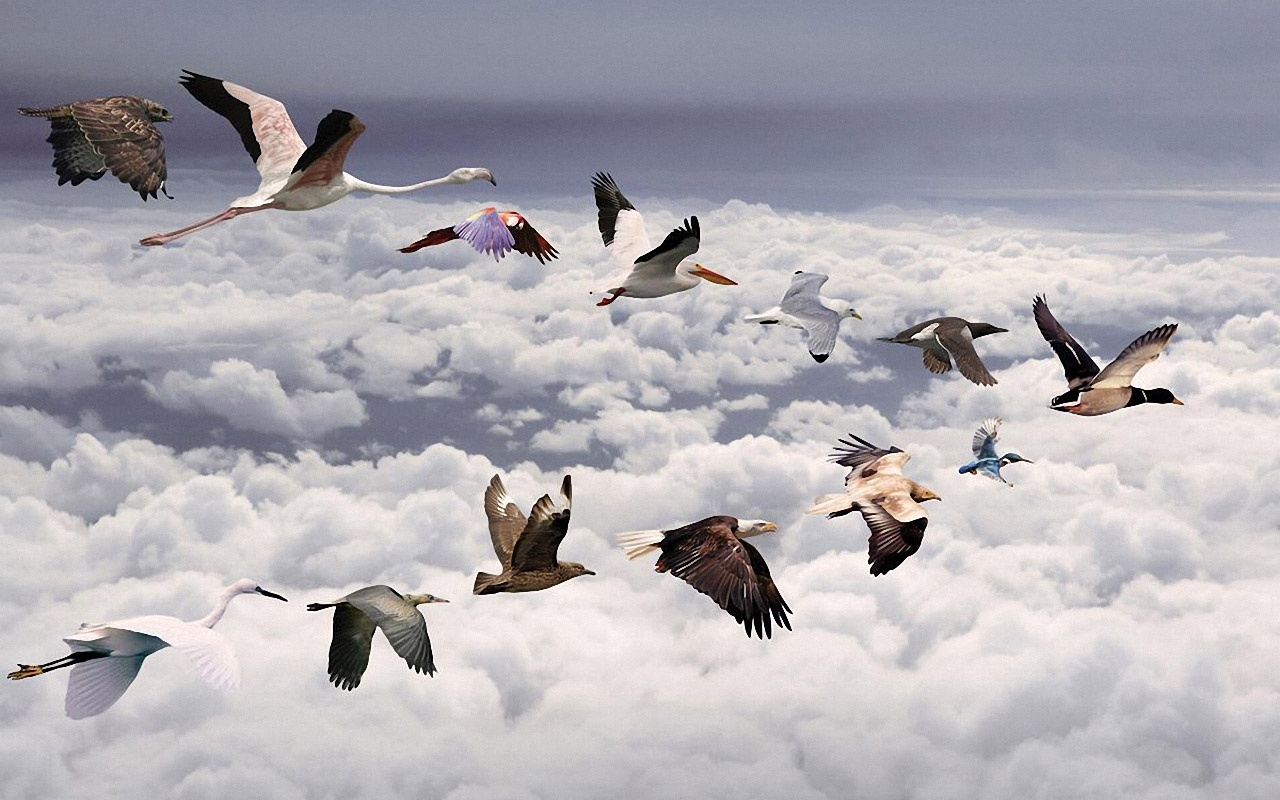bird: (129, 76, 500, 251), (5, 569, 289, 716), (611, 513, 794, 638), (1031, 291, 1187, 421), (583, 171, 734, 305), (804, 434, 941, 575), (14, 90, 177, 201), (300, 576, 450, 690), (471, 471, 597, 600), (868, 317, 1011, 395), (748, 267, 864, 363), (405, 208, 561, 273), (955, 416, 1031, 487)
